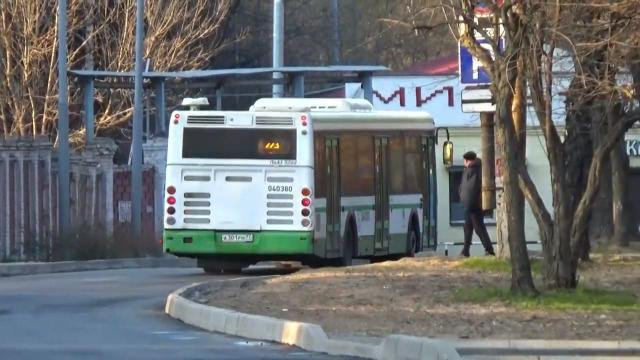bus: (164, 90, 458, 278)
